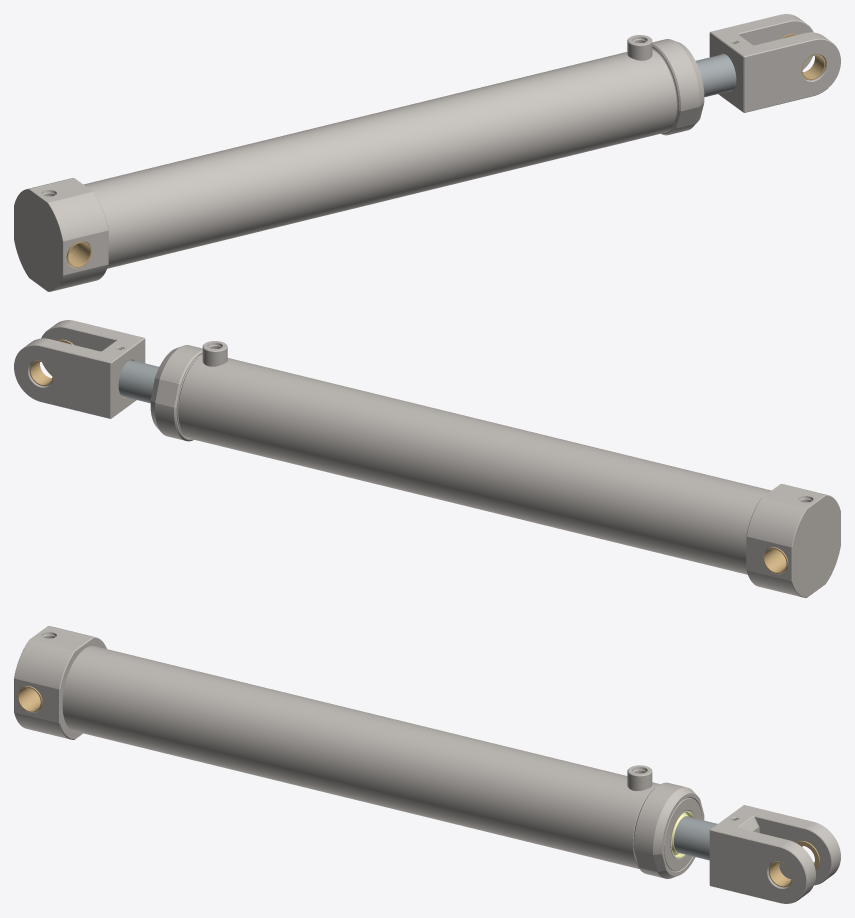
File: HydraulicCylinder.glb
3 renders of one model, top to bottom at view 1: azimuth 30°, elevation 25°; view 2: azimuth 150°, elevation 25°; view 3: azimuth 330°, elevation 25°, orthographic.
Parts seen in each view (by area): view 1: IESM P000287-1, IESM P000278-1, IESM P000304-1, IESM P000282-1, IESM P000292-1, IESM P000376-1; view 2: IESM P000287-1, IESM P000278-1, IESM P000304-1, IESM P000282-1, IESM P000292-1, IESM P000376-1; view 3: IESM P000287-1, IESM P000278-1, IESM P000304-1, IESM P000282-1, IESM P000292-1, IESM P000280-1, IESM P000376-1.
Part boxes in pixels (box(x1,y1,x2,y2)): IESM P000287-1: box(83, 48, 678, 268); IESM P000278-1: box(709, 14, 840, 112); IESM P000304-1: box(14, 178, 108, 291); IESM P000282-1: box(652, 39, 704, 135); IESM P000292-1: box(696, 54, 736, 97); IESM P000376-1: box(627, 35, 652, 60); IESM P000287-1: box(176, 354, 771, 574); IESM P000278-1: box(14, 320, 145, 418); IESM P000304-1: box(746, 484, 840, 597); IESM P000282-1: box(150, 345, 202, 441); IESM P000292-1: box(118, 360, 158, 403); IESM P000376-1: box(202, 341, 227, 366); IESM P000287-1: box(62, 646, 659, 868); IESM P000278-1: box(709, 805, 840, 903); IESM P000304-1: box(14, 626, 106, 739); IESM P000282-1: box(633, 782, 704, 878); IESM P000292-1: box(674, 816, 717, 860); IESM P000280-1: box(664, 798, 701, 871); IESM P000376-1: box(627, 765, 652, 790).
Size of the model in its own units: 0.9208 by 0.1103 by 0.1016.
